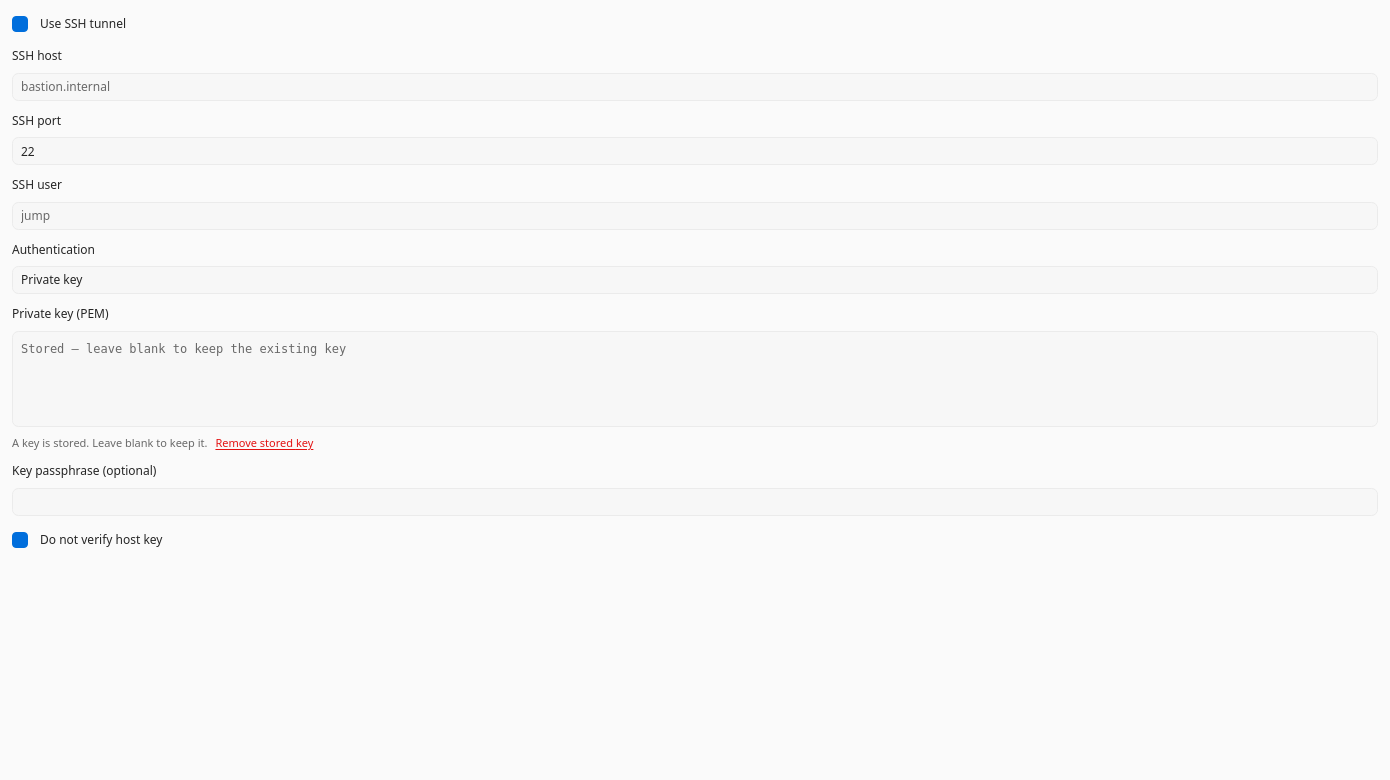
ConnectionSshFields › disables the private key and passphrase when the stored key is removed
Click the button "Remove stored key" at (264, 443), box 215,434 -> 313,451
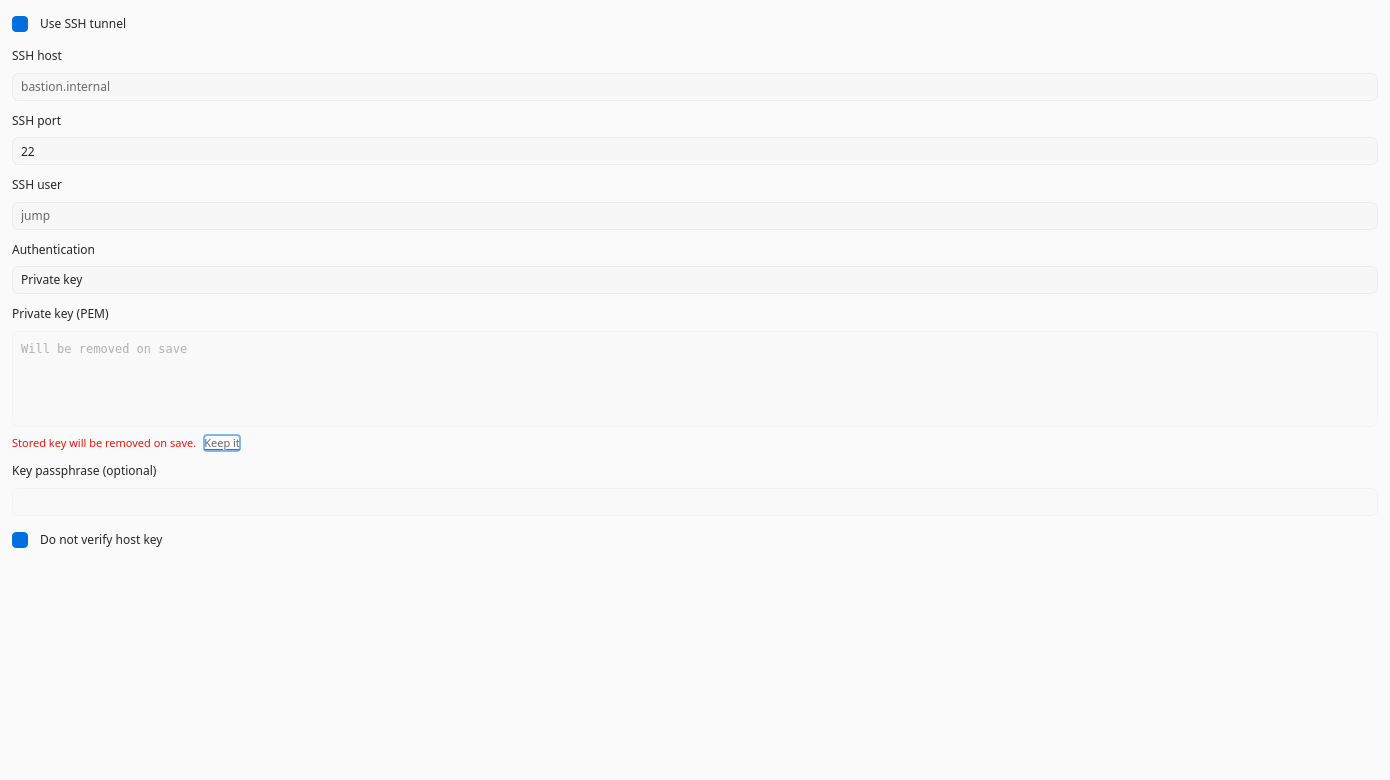
Now the text box named "private key" is disabled, box 12,330 -> 1378,426
